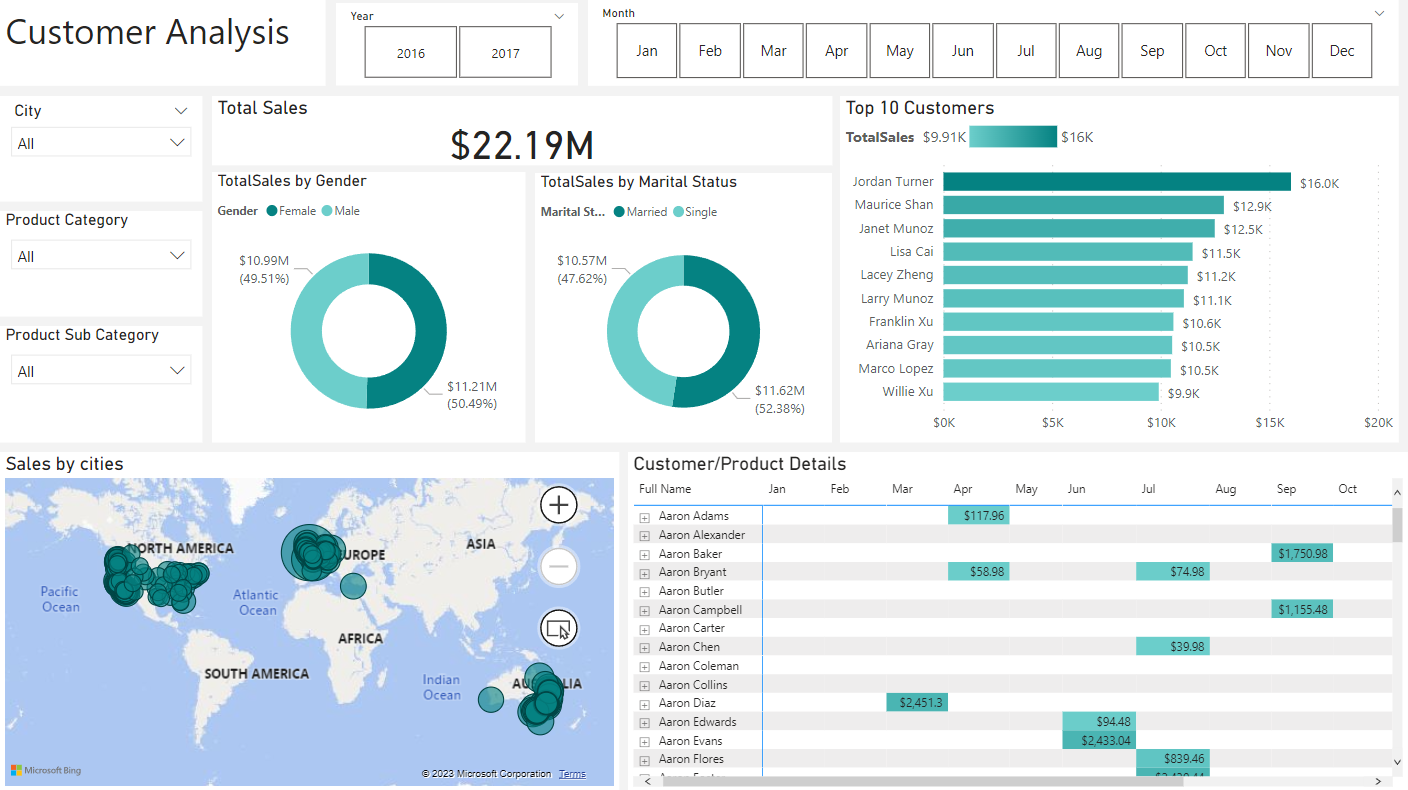

What the dashboard file says about the page in this screenshot:
{"tool":"powerbi","page":{"name":"Customer Analysis","canvas":[1280,720],"ordinal":1},"visuals":[{"type":"textbox","box":[0,0,296.4,78.2],"z":0},{"type":"slicer","fields":{"Values":["Dim_Date.Year"]},"box":[305.4,2.7,220.3,75.2],"z":1000},{"type":"slicer","title":"Product Category","fields":{"Values":["Dim_Product.Category"]},"box":[0,191.6,183.6,95.8],"z":2000},{"type":"slicer","title":"Product Sub Category","fields":{"Values":["Dim_Product.Sub Category"]},"box":[0,296.4,183.6,105.7],"z":3000},{"type":"slicer","fields":{"Values":["Dim_Customer.City"]},"box":[0,86.9,183.6,95.8],"z":4000},{"type":"slicer","fields":{"Values":["Dim_Date.Month"]},"box":[534.6,0,737,77.9],"z":5000},{"type":"barChart","title":"Top 10 Customers","fields":{"Category":["Dim_Customer.Full Name"],"Y":["Fact_Internet_Sales.TotalSales"]},"box":[763.9,86.9,507.8,315.2],"z":6000},{"type":"map","title":"Sales by cities","fields":{"Category":["Dim_Customer.City"],"Size":["Fact_Internet_Sales.TotalSales"]},"box":[0,410.9,562.7,309.1],"z":7000},{"type":"donutChart","fields":{"Y":["Fact_Internet_Sales.TotalSales"],"Category":["Dim_Customer.Gender"]},"box":[192.7,156.4,284.5,246.4],"z":8000},{"type":"pivotTable","title":"Customer/Product Details","fields":{"Rows":["Dim_Customer.Full Name","Dim_Product.EnglishProductName"],"Columns":["Dim_Date.Month"],"Values":["Fact_Internet_Sales.TotalSales"]},"box":[570.9,410.9,709.1,309.1],"z":9000},{"type":"donutChart","fields":{"Y":["Fact_Internet_Sales.TotalSales"],"Category":["Dim_Customer.Marital Status"]},"box":[486.4,157.3,270,245.5],"z":10000},{"type":"card","title":"Total Sales","fields":{"Values":["Fact_Internet_Sales.TotalSales"]},"box":[192.7,87.3,563.6,62.7],"z":10001}]}

Visuals, with their boxes in screenshot pixels (x1, y1, x2, y2), scaled from the page's 1280x720 canvas onto the 1408x790 screenshot:
textbox: [left=0, top=0, right=326, bottom=86]
slicer - Dim_Date.Year: [left=336, top=3, right=578, bottom=85]
"Product Category" slicer: [left=0, top=210, right=202, bottom=315]
"Product Sub Category" slicer: [left=0, top=325, right=202, bottom=441]
slicer - Dim_Customer.City: [left=0, top=95, right=202, bottom=200]
slicer - Dim_Date.Month: [left=588, top=0, right=1399, bottom=85]
"Top 10 Customers" barChart: [left=840, top=95, right=1399, bottom=441]
"Sales by cities" map: [left=0, top=451, right=619, bottom=789]
donutChart - Fact_Internet_Sales.TotalSales x Dim_Customer.Gender: [left=212, top=172, right=525, bottom=442]
"Customer/Product Details" pivotTable: [left=628, top=451, right=1407, bottom=789]
donutChart - Fact_Internet_Sales.TotalSales x Dim_Customer.Marital Status: [left=535, top=173, right=832, bottom=442]
"Total Sales" card: [left=212, top=96, right=832, bottom=165]
